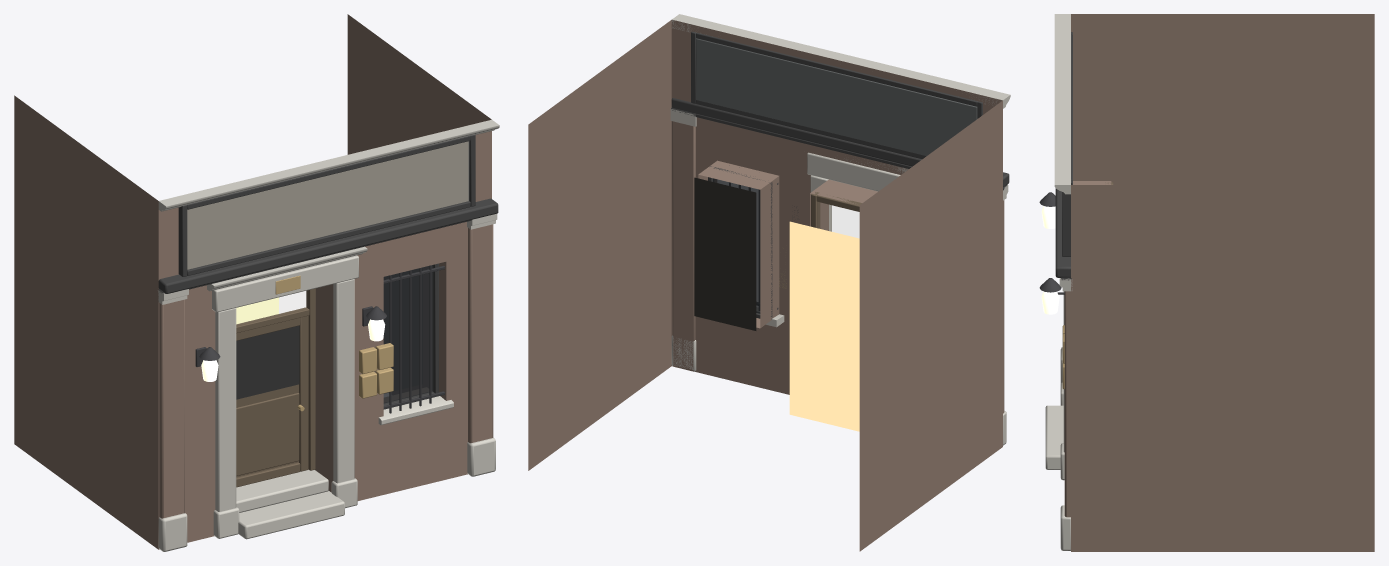
Rendered from doorway_4a.glb.
3 renders of one model, left to right at view 1: azimuth 30°, elevation 25°; view 2: azimuth 150°, elevation 25°; view 3: azimuth 270°, elevation 25°, orthographic. The views are drawn at different scales.
Parts seen in each view (by area): view 1: doorway_4a; view 2: doorway_4a; view 3: doorway_4a.
Part boxes in pixels (x1,y1,x2,y2): doorway_4a: [14, 14, 499, 551]; doorway_4a: [528, 14, 1010, 551]; doorway_4a: [1039, 14, 1374, 551].
Size of the model in its own units: 4 by 4 by 3.31.
